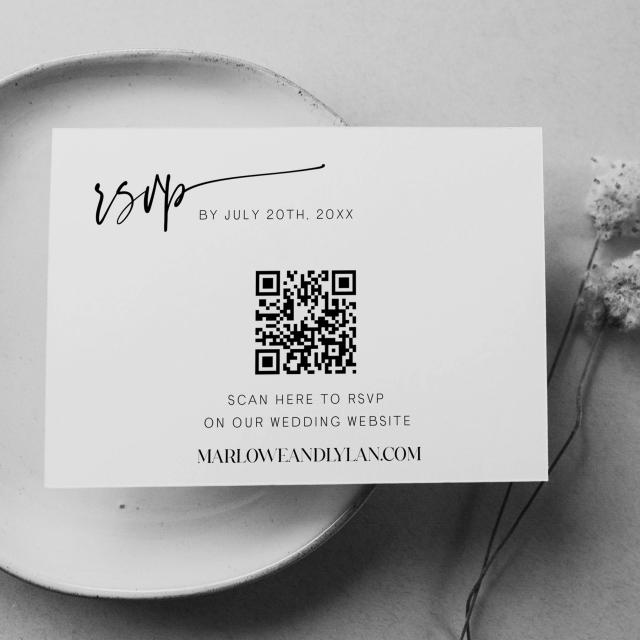QR-codes: (255, 268, 360, 377)
